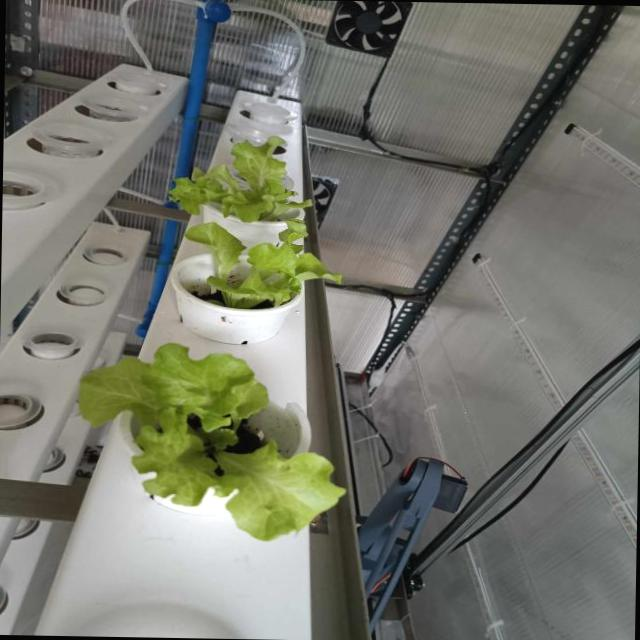Lettuce-Not-Ready-to-Harvest: (78, 342, 346, 542), (185, 218, 342, 309), (167, 135, 312, 223)
